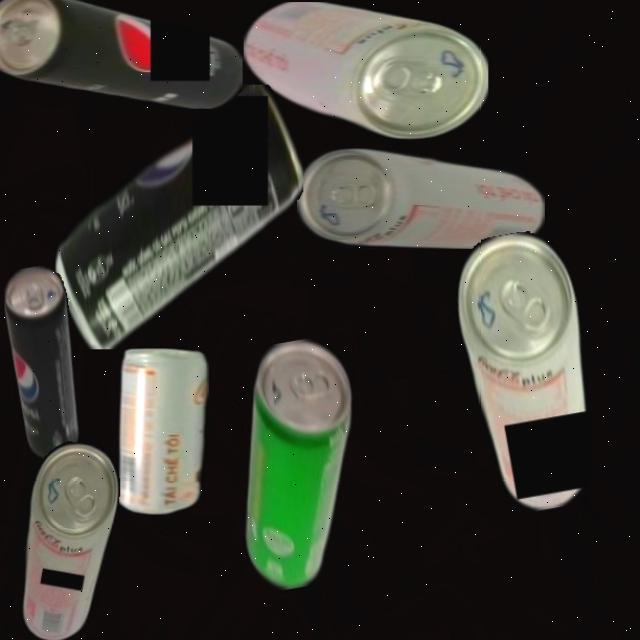debris: (54, 84, 304, 349), (444, 225, 612, 519), (212, 333, 384, 595), (242, 2, 488, 140), (0, 0, 243, 109), (297, 147, 545, 249), (6, 437, 127, 640), (0, 263, 94, 462), (116, 346, 209, 515)
